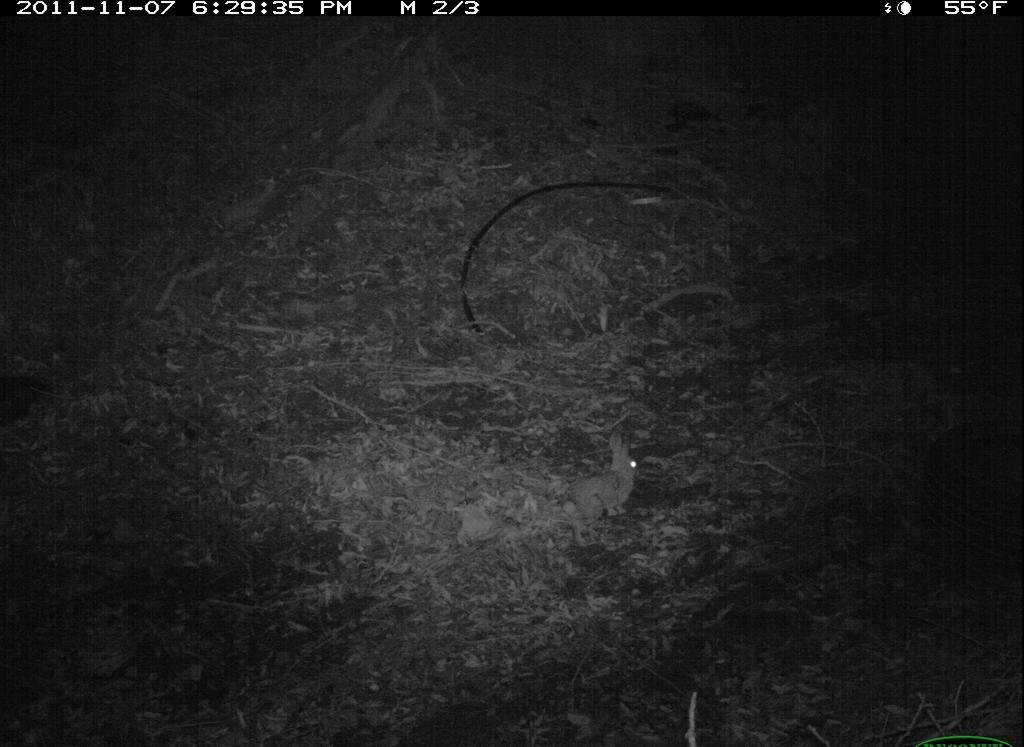rabbit: (562, 426, 643, 523)
